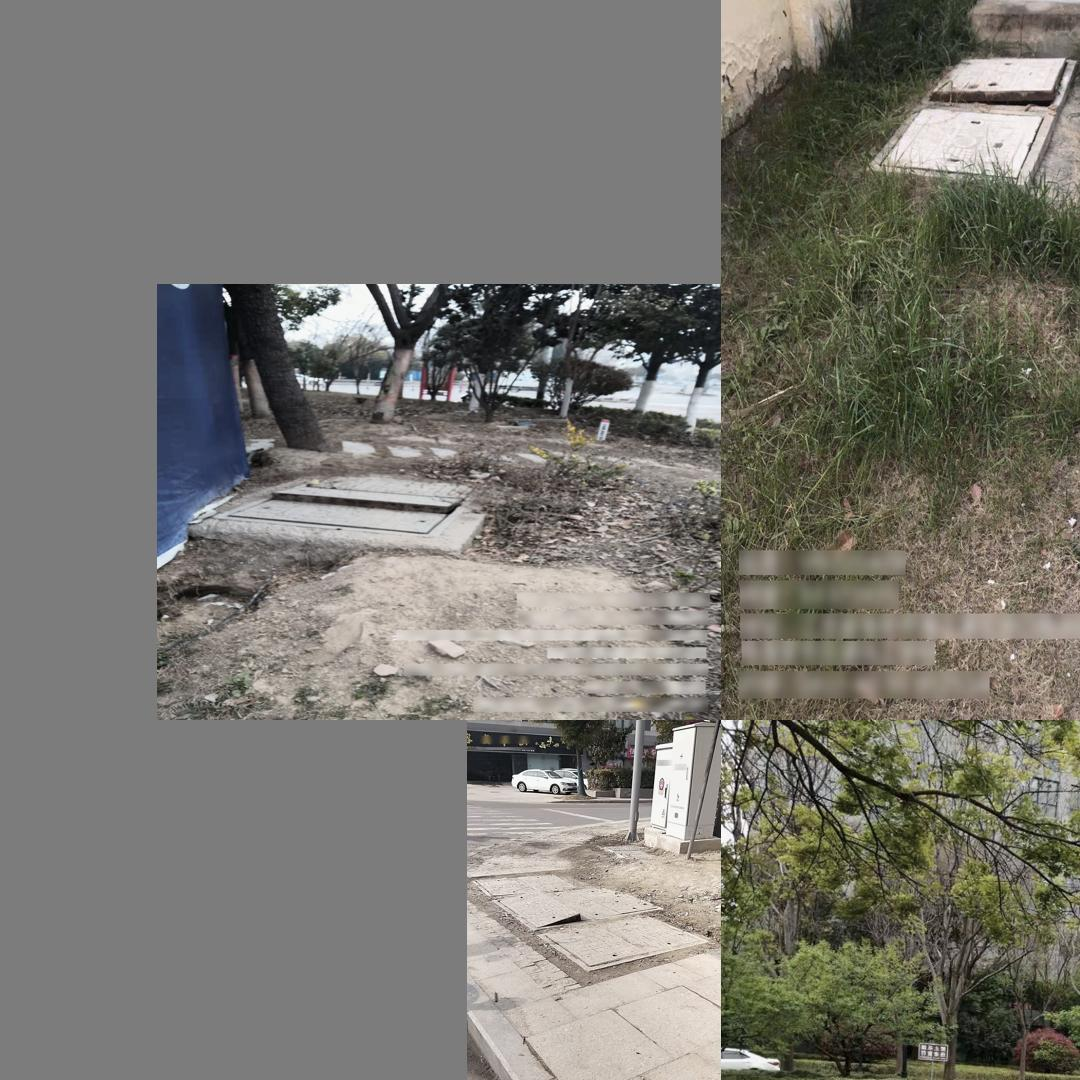good: (866, 104, 1056, 189), (537, 915, 710, 974)
uncovered: (209, 475, 476, 539), (923, 55, 1076, 109), (491, 885, 665, 931)
